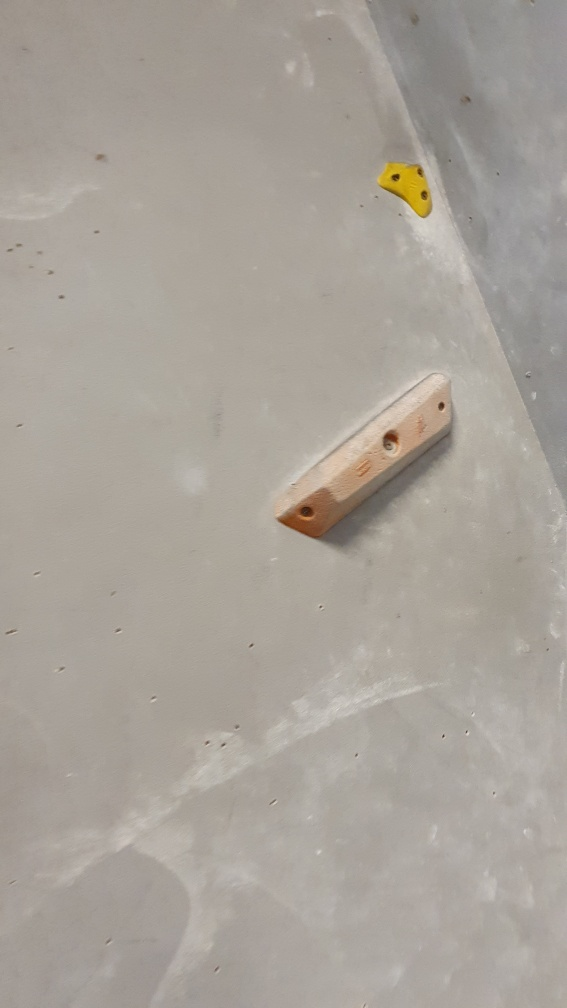Pinch: (272, 368, 455, 548)
